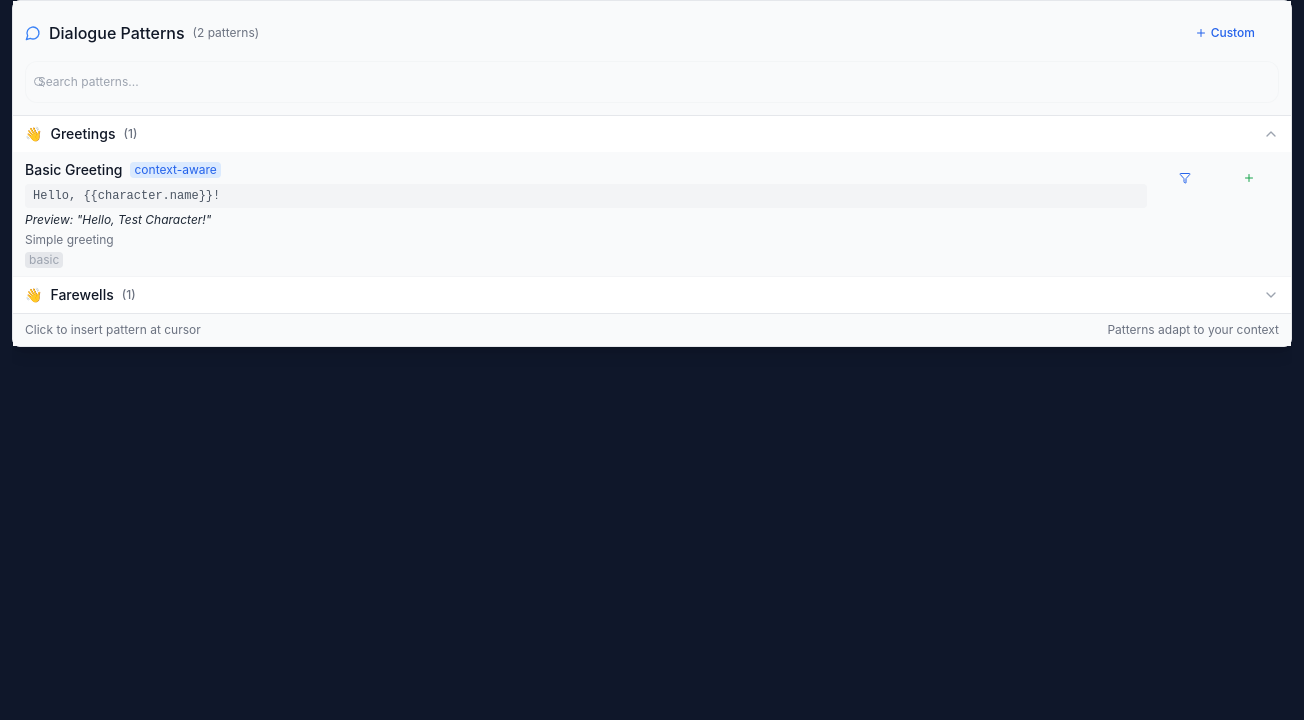
DialoguePatterns Component › shows custom pattern form when add custom button is clicked
Click the button "Custom": click(1225, 33) x1=1171 y1=13 x2=1279 y2=53
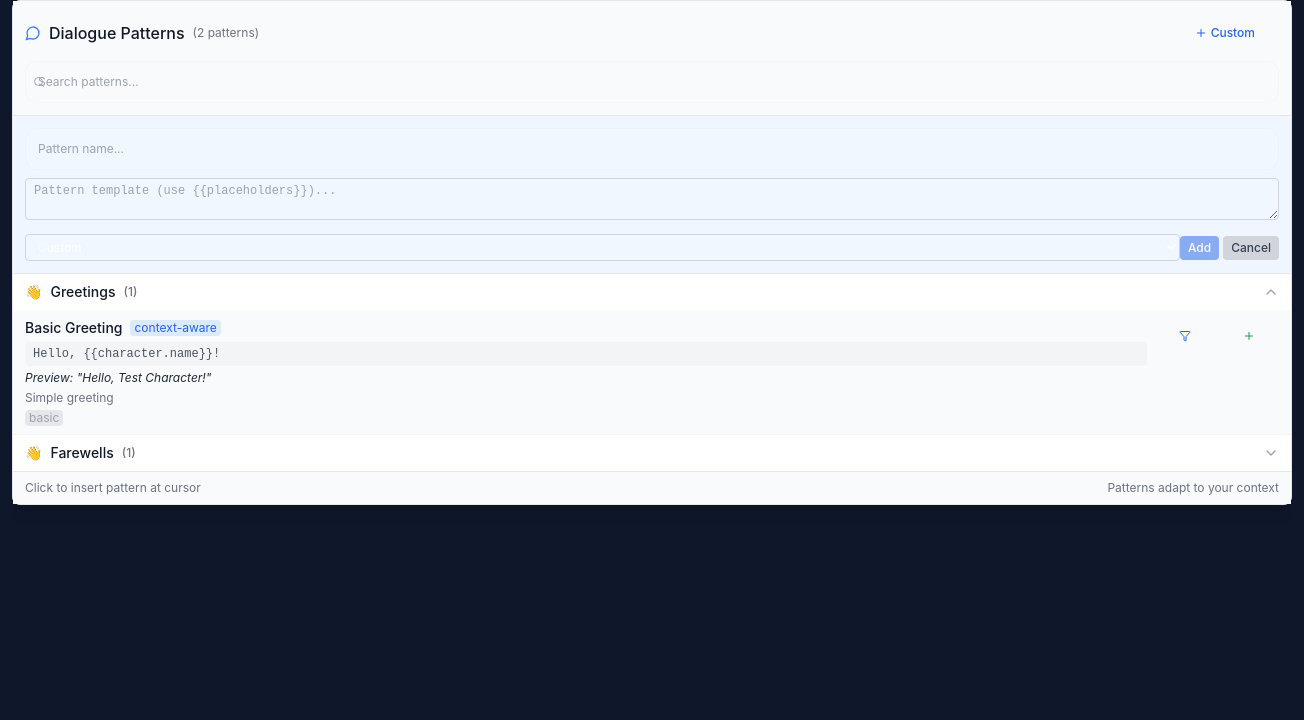
Now the field with placeholder "Pattern name..." is shown, box x1=25 y1=128 x2=1279 y2=170
Now the text box with placeholder "Pattern template (use {{placeholders}})..." is shown, box x1=25 y1=178 x2=1279 y2=220
